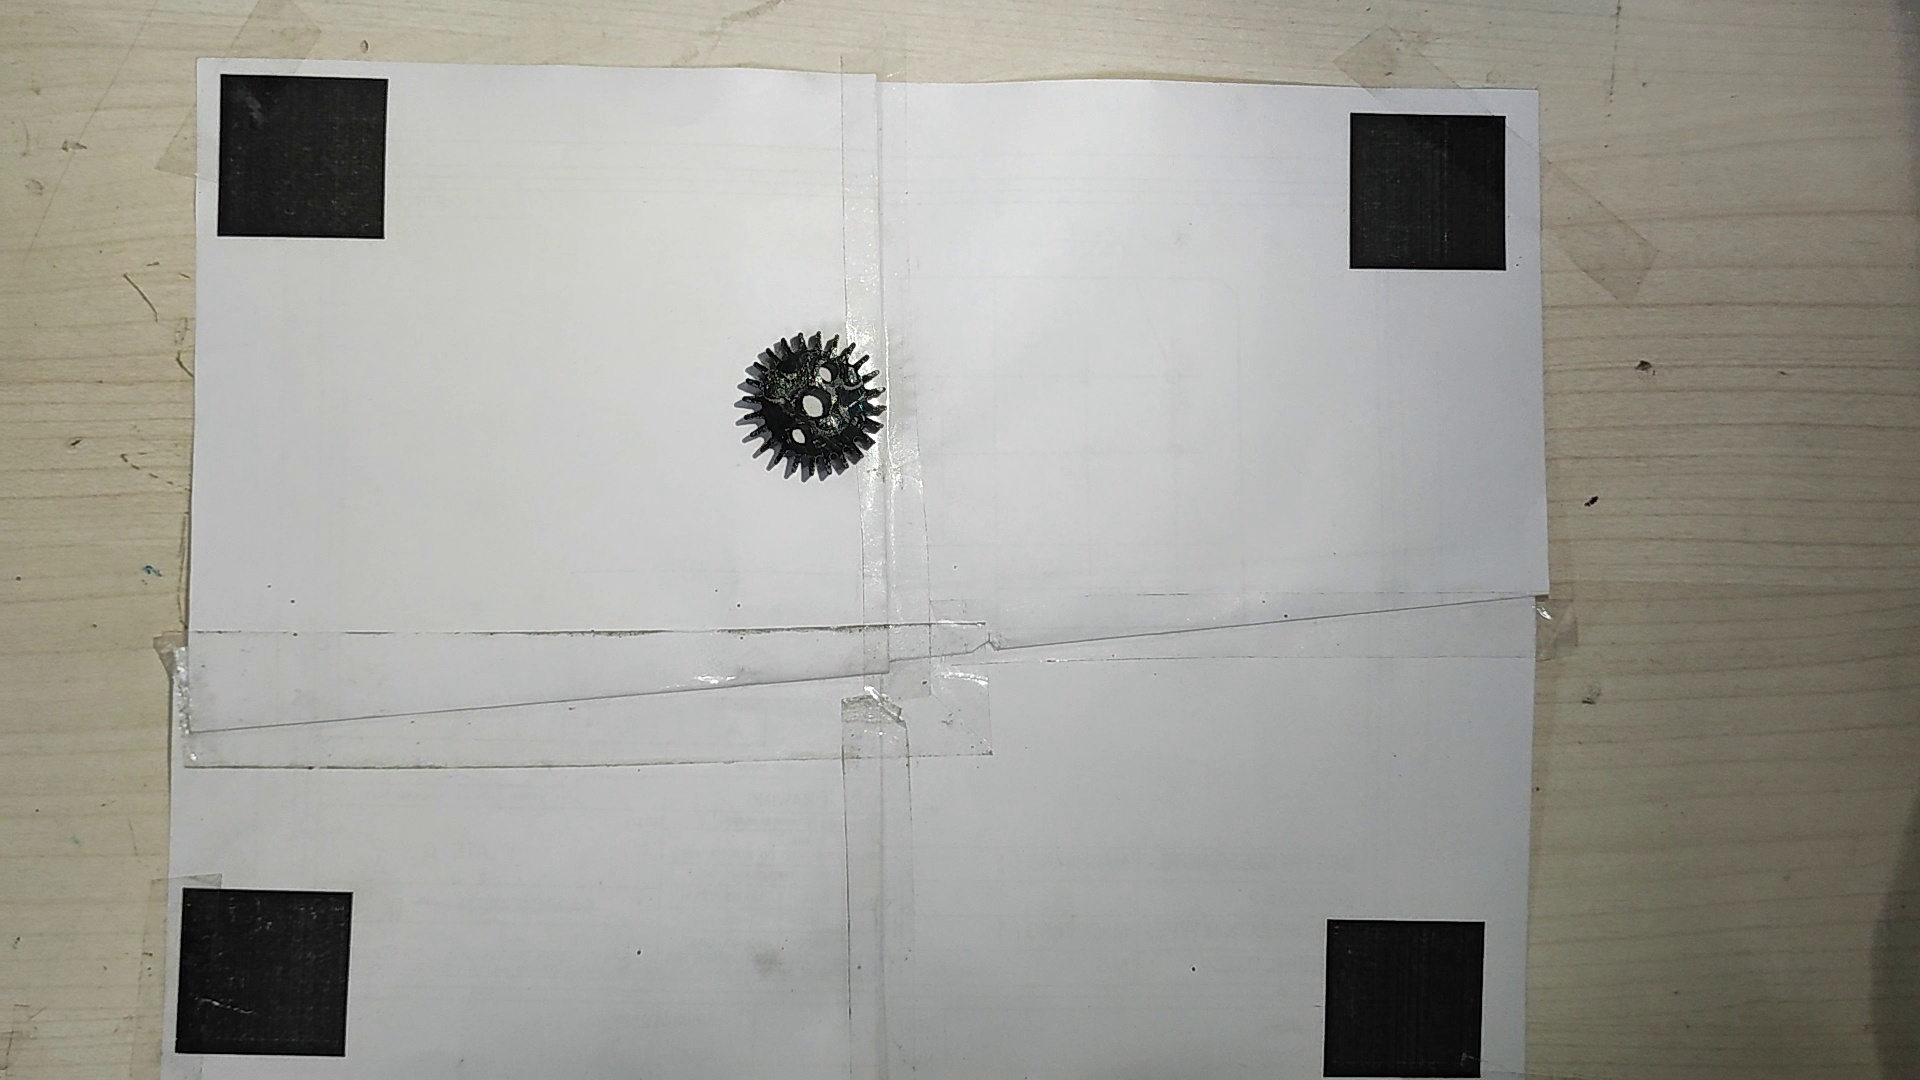Gear: (729, 328, 889, 487)
